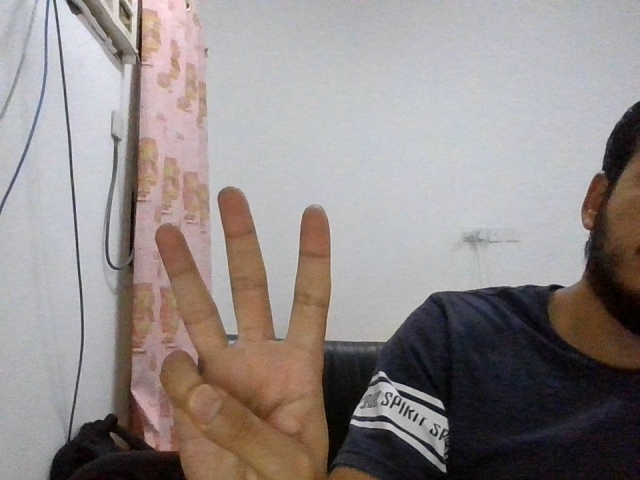Three: (155, 187, 329, 480)
